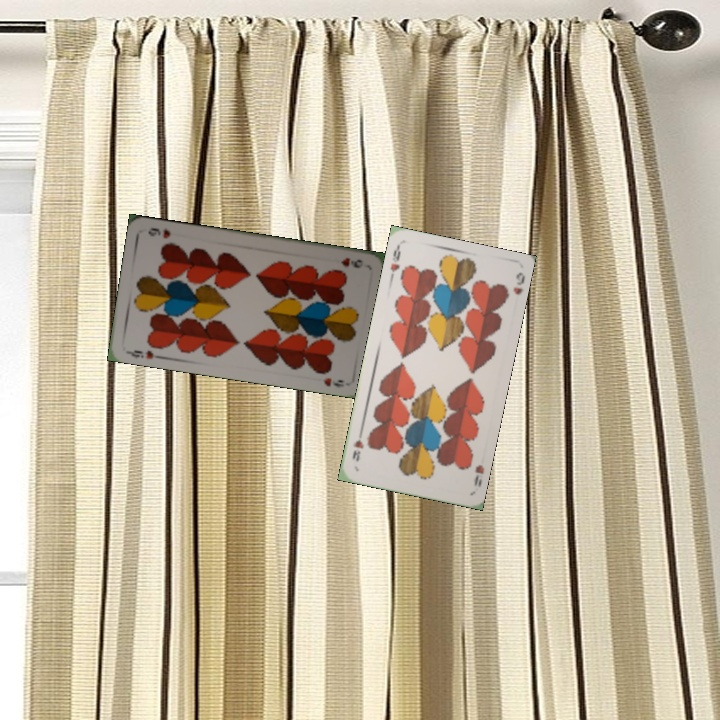H9: (386, 242, 403, 282), (123, 346, 164, 362), (470, 461, 487, 490), (337, 254, 365, 271)
